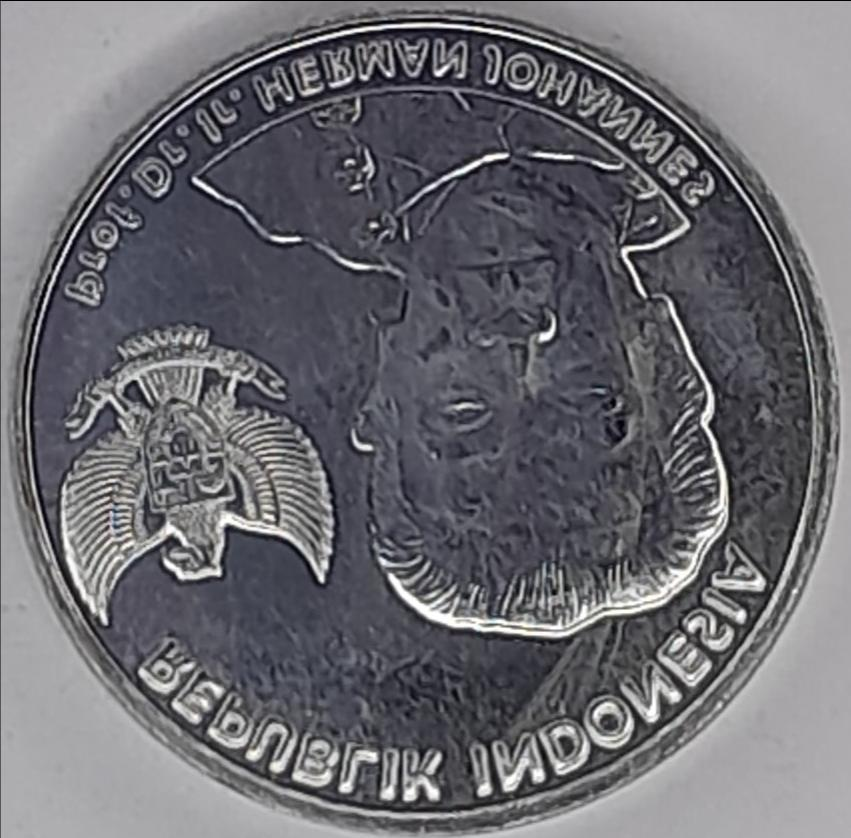coin_100_e2016: (6, 1, 846, 836)
